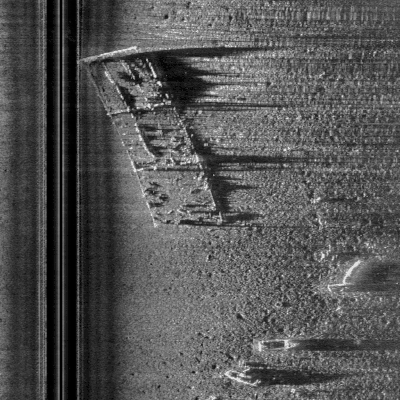ship: (80, 48, 228, 229)
